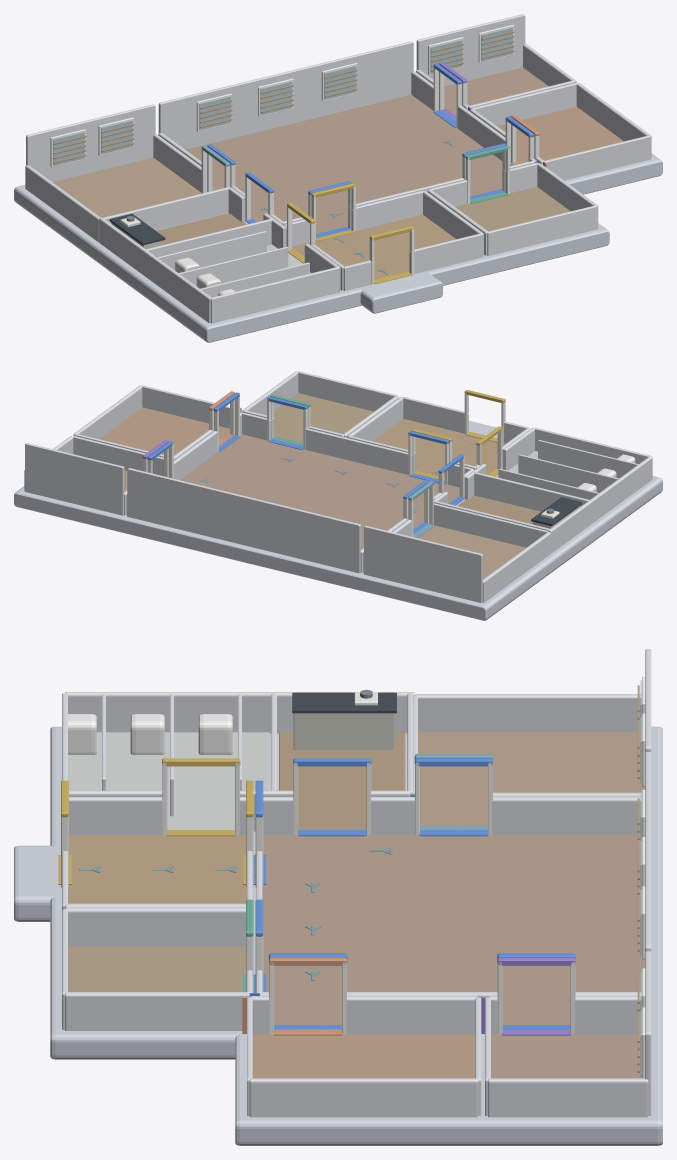
File: office-shell.glb
3 renders of one model, top to bottom at view 1: azimuth 30°, elevation 25°; view 2: azimuth 150°, elevation 25°; view 3: azimuth 270°, elevation 25°, orthographic. The views are drawn at different scales.
Parts seen in each view (by area): view 1: nayagement-office; view 2: nayagement-office; view 3: nayagement-office.
Part boxes in pixels (bbox=[...]): nayagement-office: bbox=[14, 14, 662, 342]; nayagement-office: bbox=[14, 371, 662, 620]; nayagement-office: bbox=[14, 649, 662, 1145].
Size of the model in its own units: 19.39 by 2.45 by 13.35.
